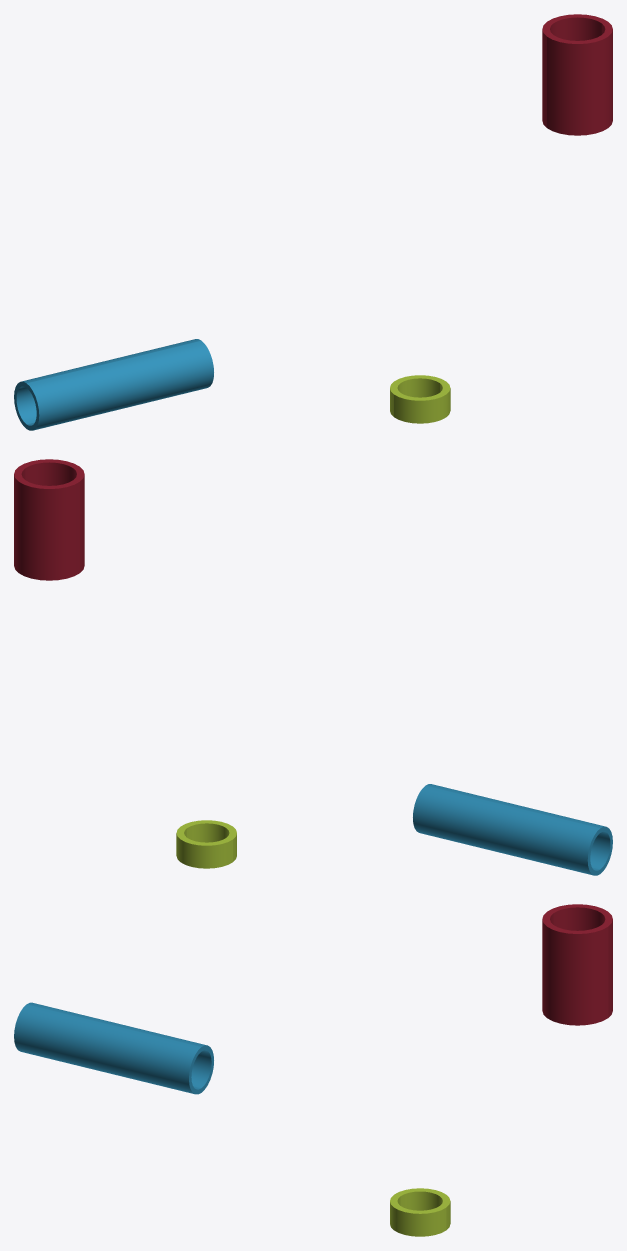
The model's file is cooling_tower_gearbox_pressure.glb.
3 views of the same model, one above another, from view 1: azimuth 30°, elevation 25°; view 2: azimuth 150°, elevation 25°; view 3: azimuth 330°, elevation 25° (orthographic).
Visible parts, largest first — view 1: pressure__front, pressure__back; view 2: pressure__back, pressure__front; view 3: pressure__front, pressure__back.
Boxes of the visible parts, x1,y1,x2,y2 form: pressure__front: [26, 22, 612, 430]; pressure__back: [14, 14, 607, 428]; pressure__back: [14, 467, 600, 875]; pressure__front: [19, 459, 612, 873]; pressure__front: [14, 911, 608, 1236]; pressure__back: [27, 904, 612, 1229].
Bounding box in the file's own units: 1.33 × 0.75 × 0.14.
